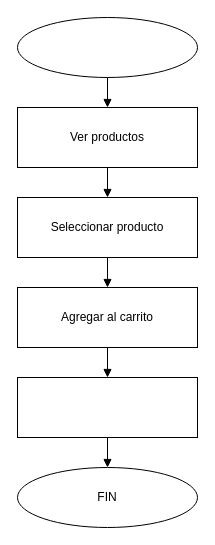
Image size: 215x545. Some labels were removed from this diagram. The centre of each missing label's shape, as x and y in pixels:
Confirmar compra: (107,407)
INICIO: (107,47)
